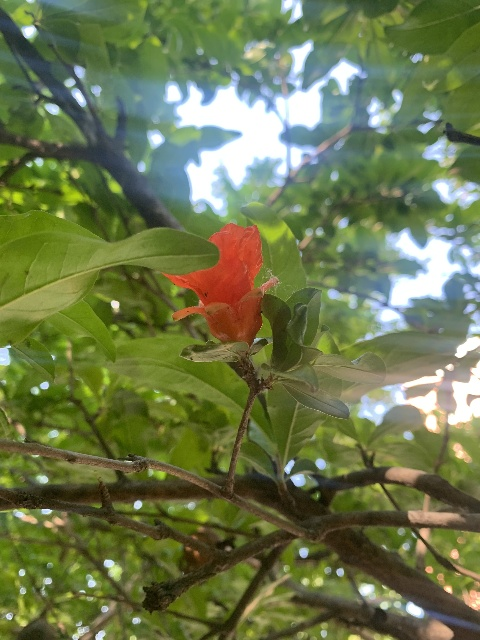flower: (160, 223, 276, 346)
